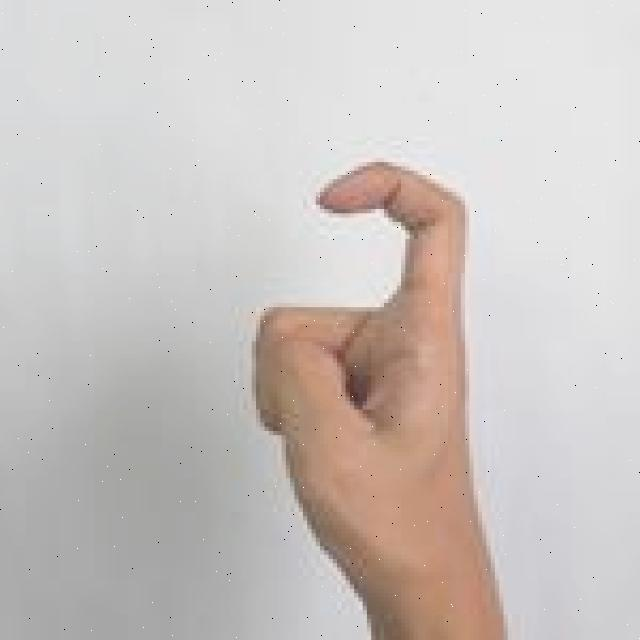X: (253, 155, 518, 640)
